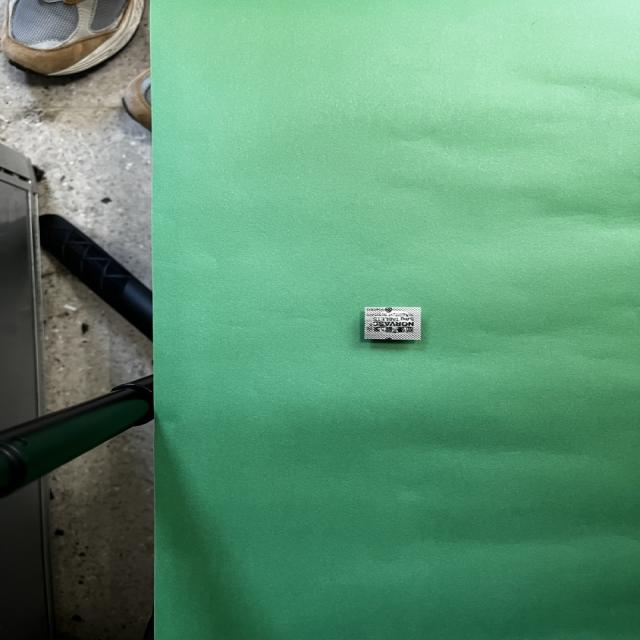Other Objects: (364, 307, 420, 341)
